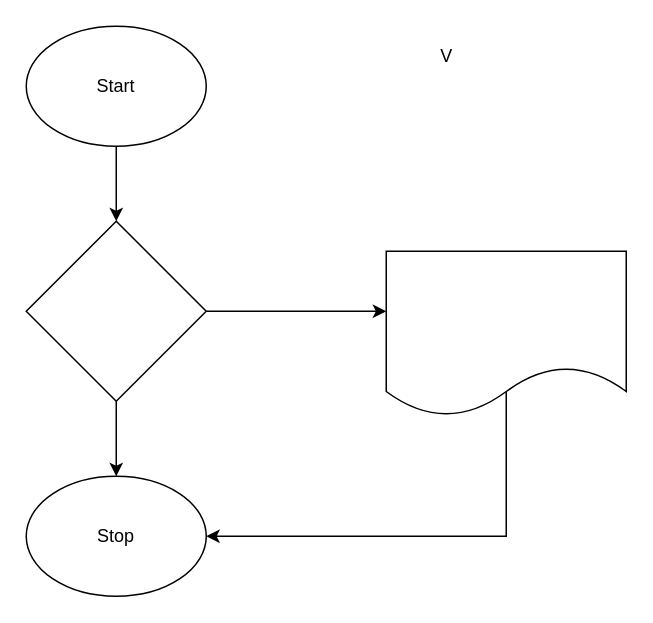
Image size: 653x623. Some labels were removed from this diagram. Here are the shapes that lost their labels. From the top down, the centre of each, then its label:
(115,310): Grade > 85
(505,333): Print "Very Good!"
